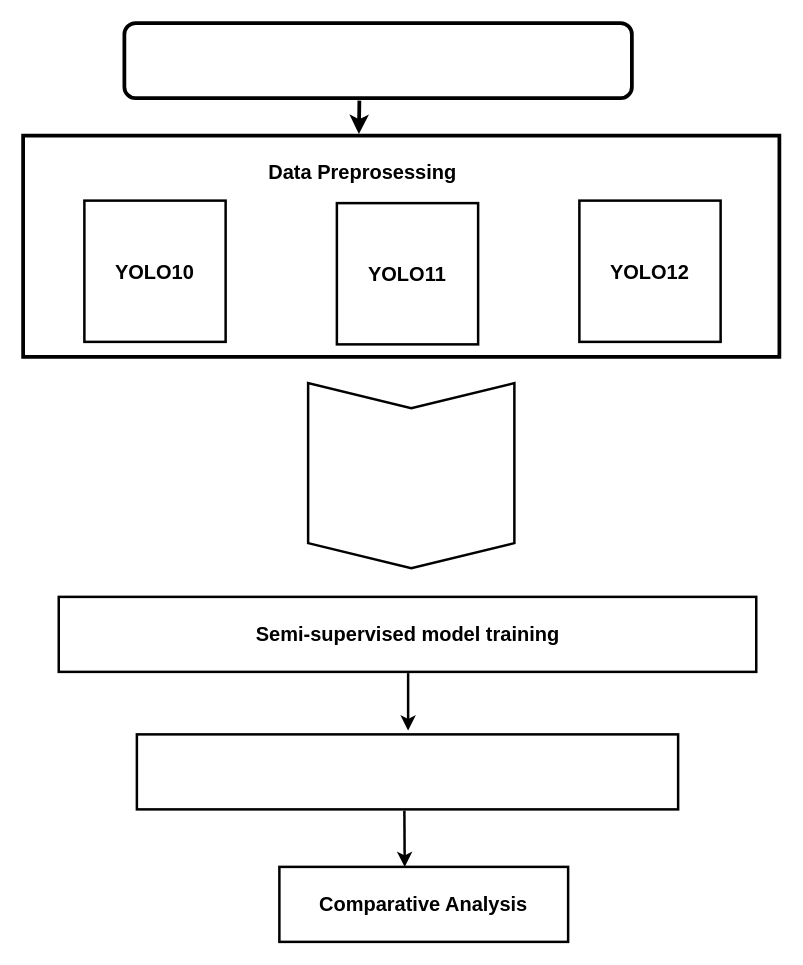
The diagram is 803 pixels wide and 965 high, and some of its shapes have lost their labels. The shapes that lost their labels are listed below. From the top down, each one's centre as x and y in pixels, then its label:
At [377,60]: "Disaster Responce Dataset".
At [410,475]: "Best pt and best model".
At [407,771]: "Self supervised Model -DINO and BYOL".
